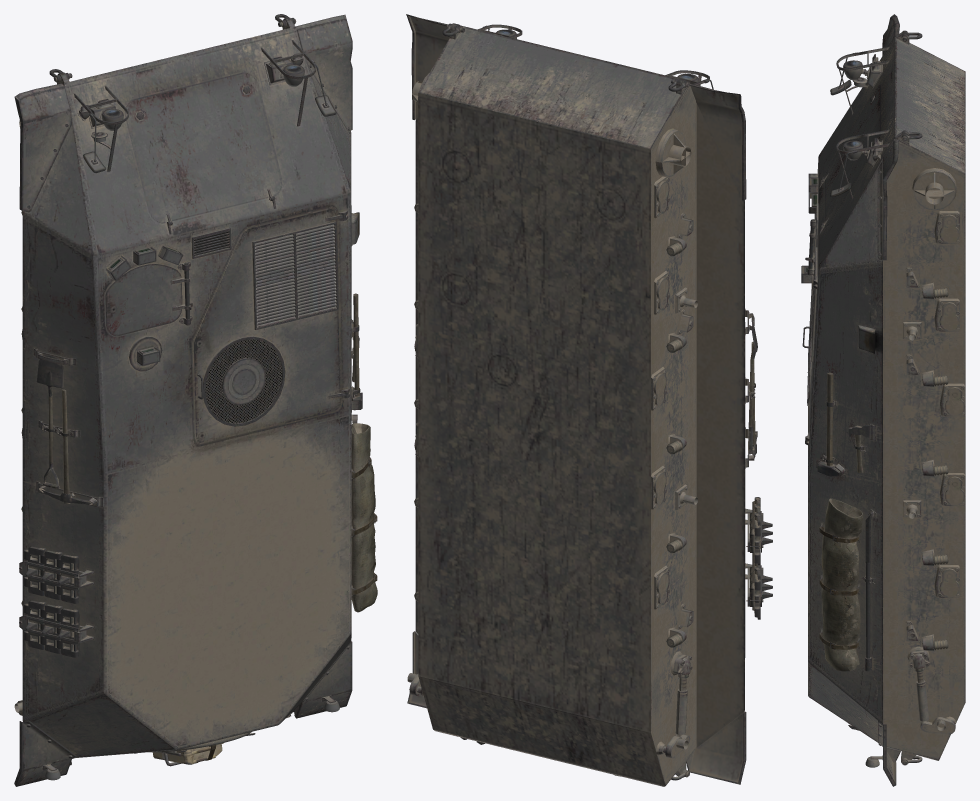
Rendered from Hull.glb.
3 views of the same model, side by side, from view 1: azimuth 30°, elevation 25°; view 2: azimuth 150°, elevation 25°; view 3: azimuth 270°, elevation 25° (orthographic). The views are drawn at different scales.
Visible parts, largest first — view 1: set_0_group_0; view 2: set_0_group_0; view 3: set_0_group_0.
Boxes of the visible parts, bbox=[...] form: set_0_group_0: bbox=[14, 14, 377, 786]; set_0_group_0: bbox=[406, 14, 772, 786]; set_0_group_0: bbox=[801, 14, 965, 786].
Size of the model in its own units: 2.64 by 5.17 by 1.2.
Materials: 1 (1 with a texture image).
